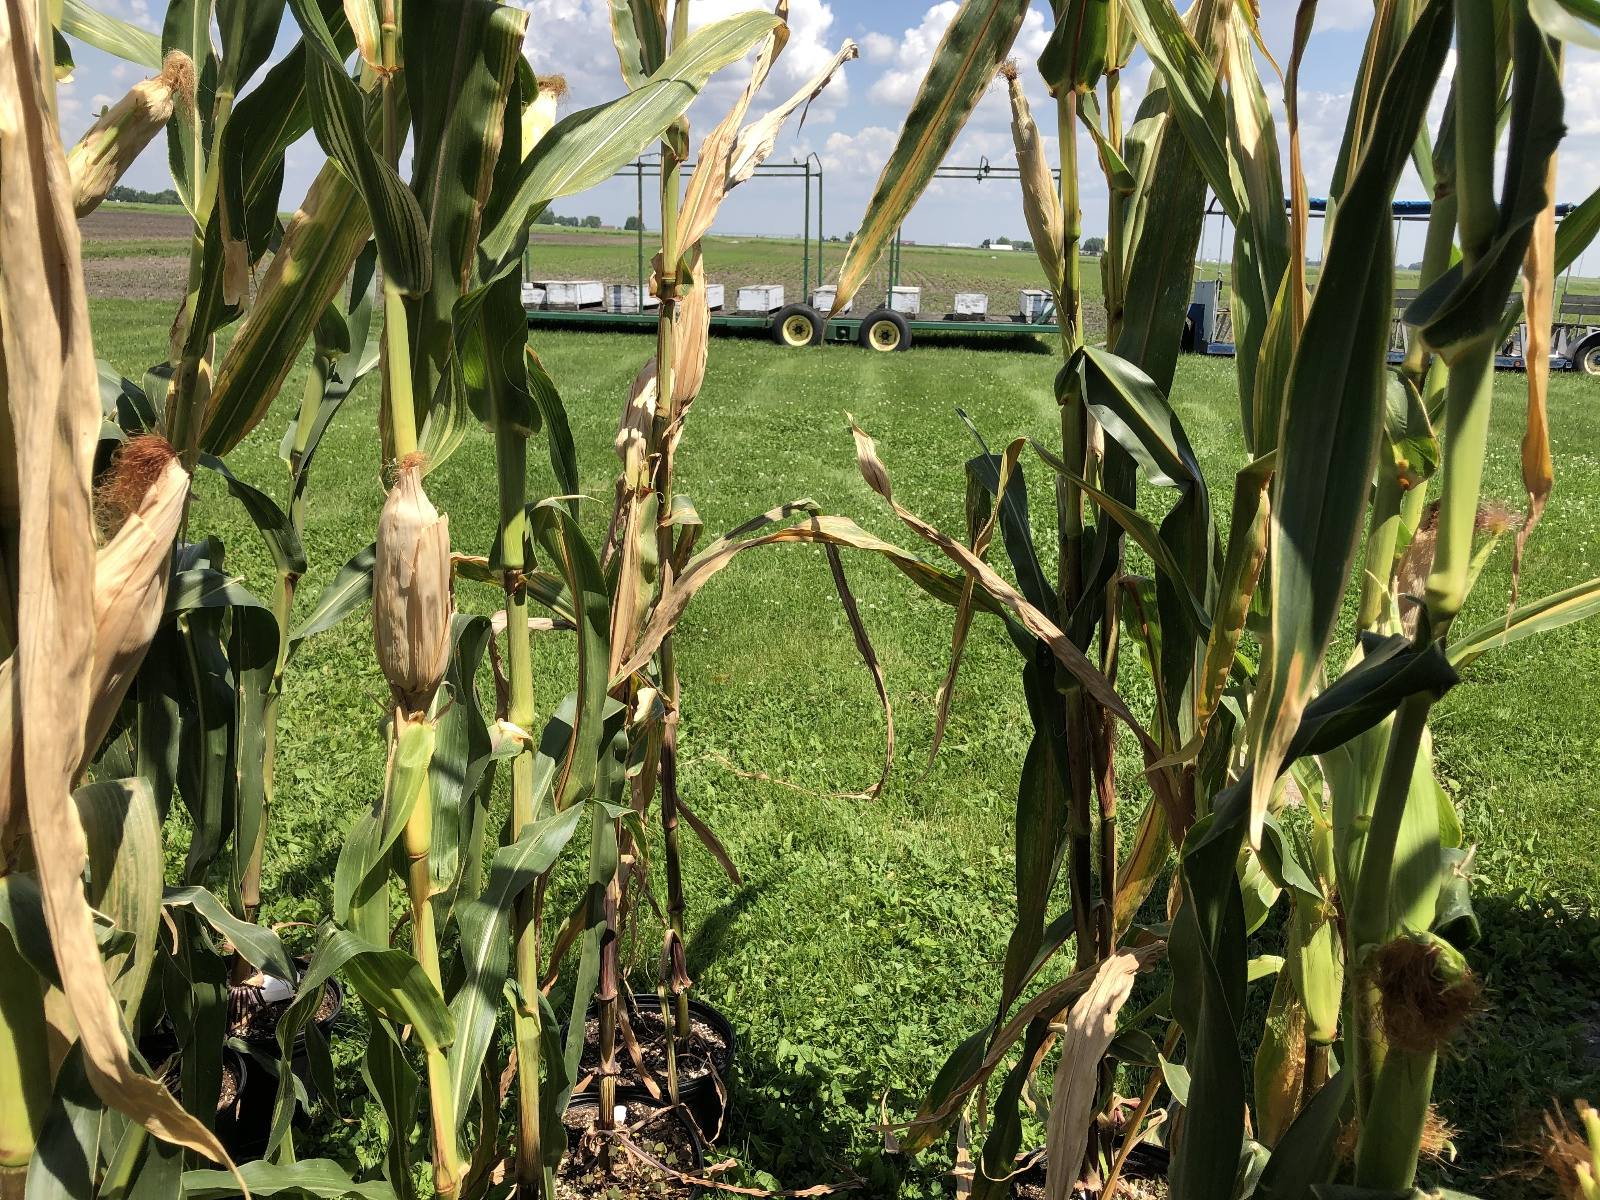ear: (5, 434, 195, 829), (50, 42, 197, 218), (359, 447, 461, 700), (991, 50, 1073, 286), (517, 66, 573, 154), (617, 350, 661, 458)
